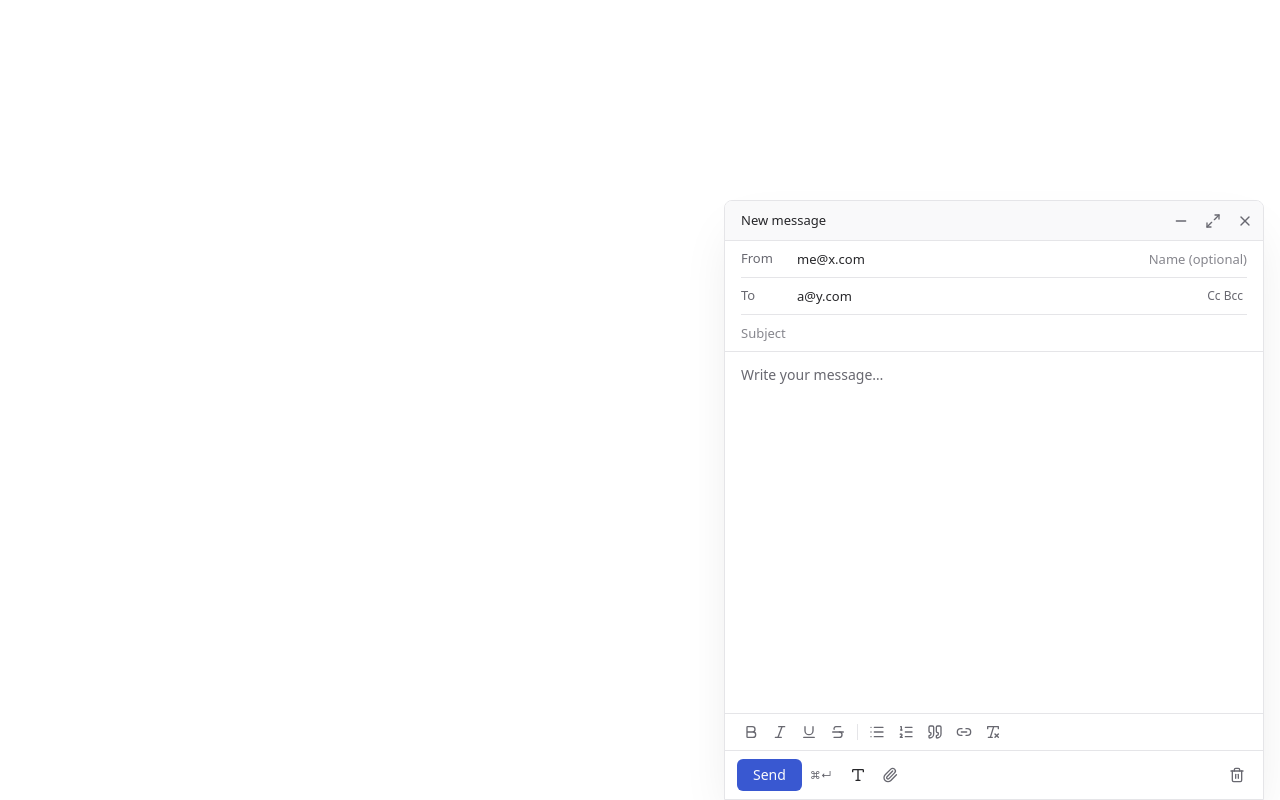
Scenario: ComposeWindow — sending › refuses an empty message
The image size is (1280, 800).
Click the button "Send" at (769, 775), box [737,759,802,791]
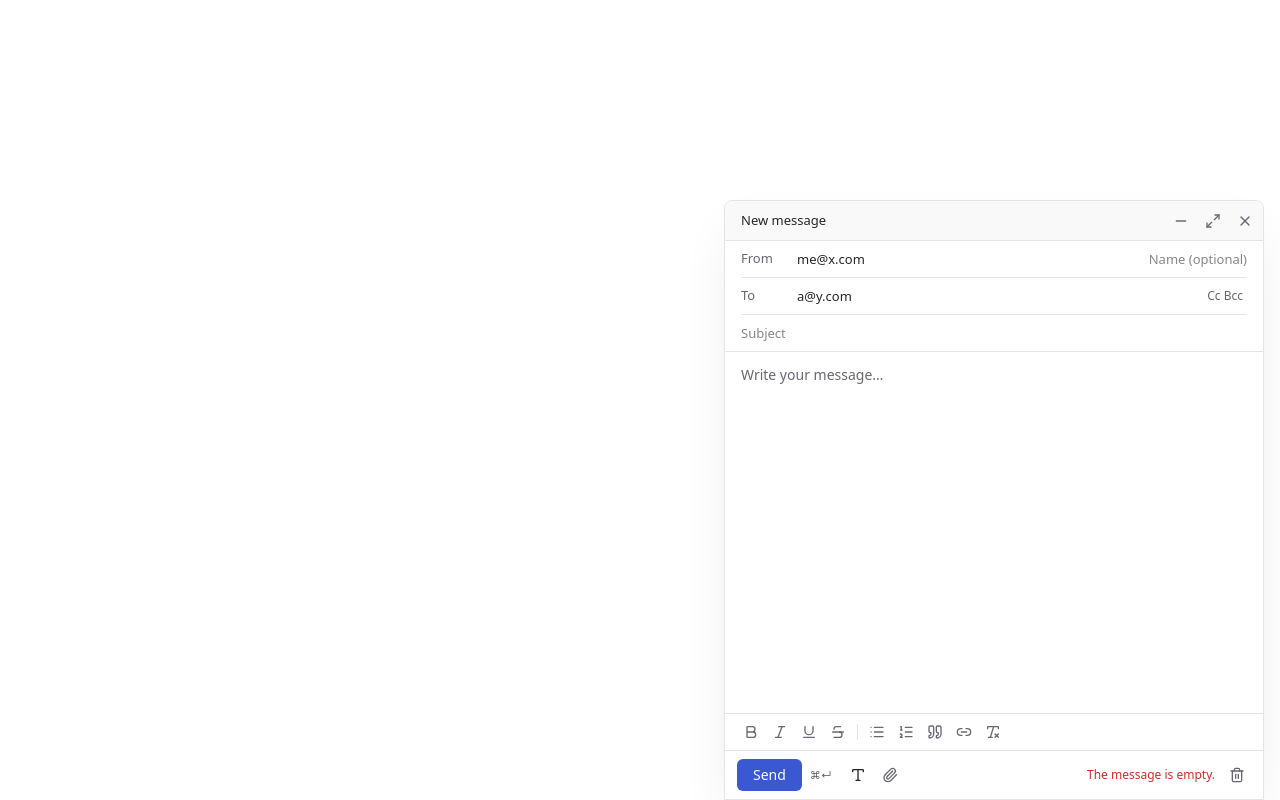
Expected: the message shows "empty", [1087,766,1215,783]
